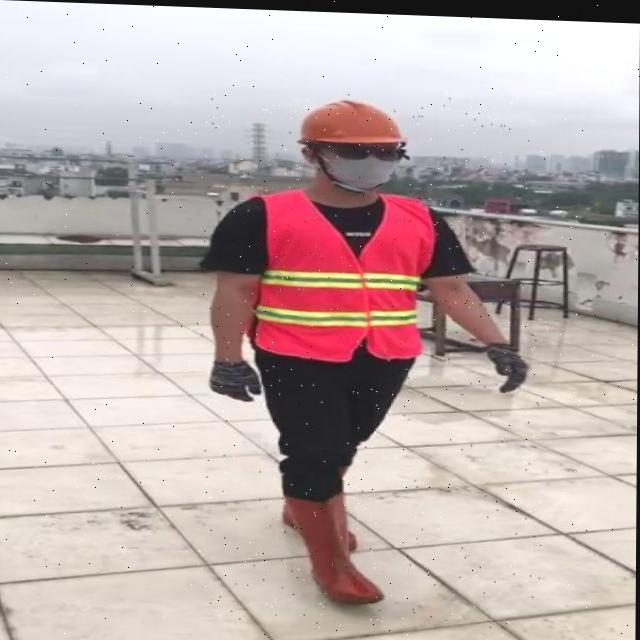Gloves: (209, 356, 262, 399), (487, 338, 528, 389)
Helmet: (296, 95, 407, 191)
Safety-Boot: (282, 487, 385, 603)
Safety-Vest: (247, 184, 436, 362)
